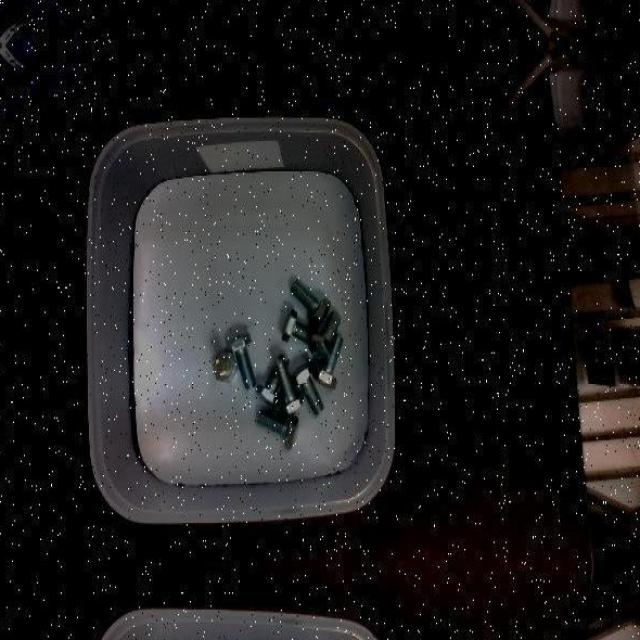screw: (291, 279, 331, 329), (291, 361, 324, 416), (309, 309, 342, 363), (227, 332, 257, 390), (257, 409, 299, 450), (274, 358, 304, 414), (212, 349, 238, 382)
